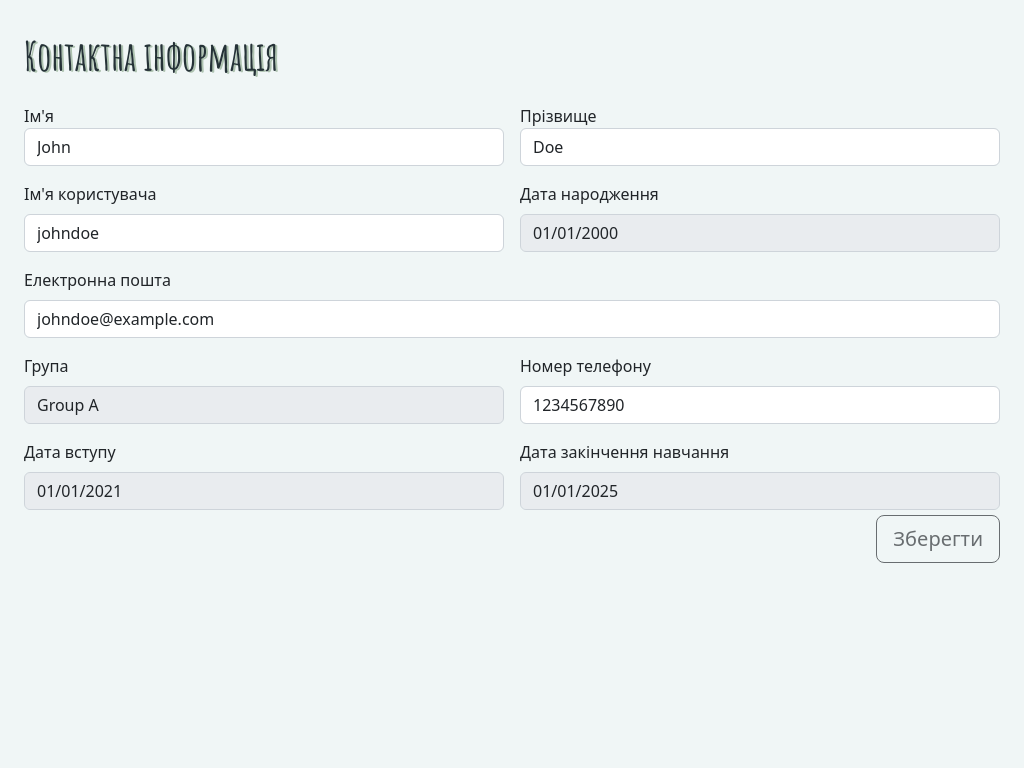
Test case: ProfileForm › Given loaded user data, when the user name input changes, it should validate the input
Check: the field named "First name" is shown, box [24, 128, 504, 166]
Check: the field named "Last name" is shown, box [520, 128, 1000, 166]
Clear the field named "User name" at point(264, 233), box [24, 214, 504, 252]
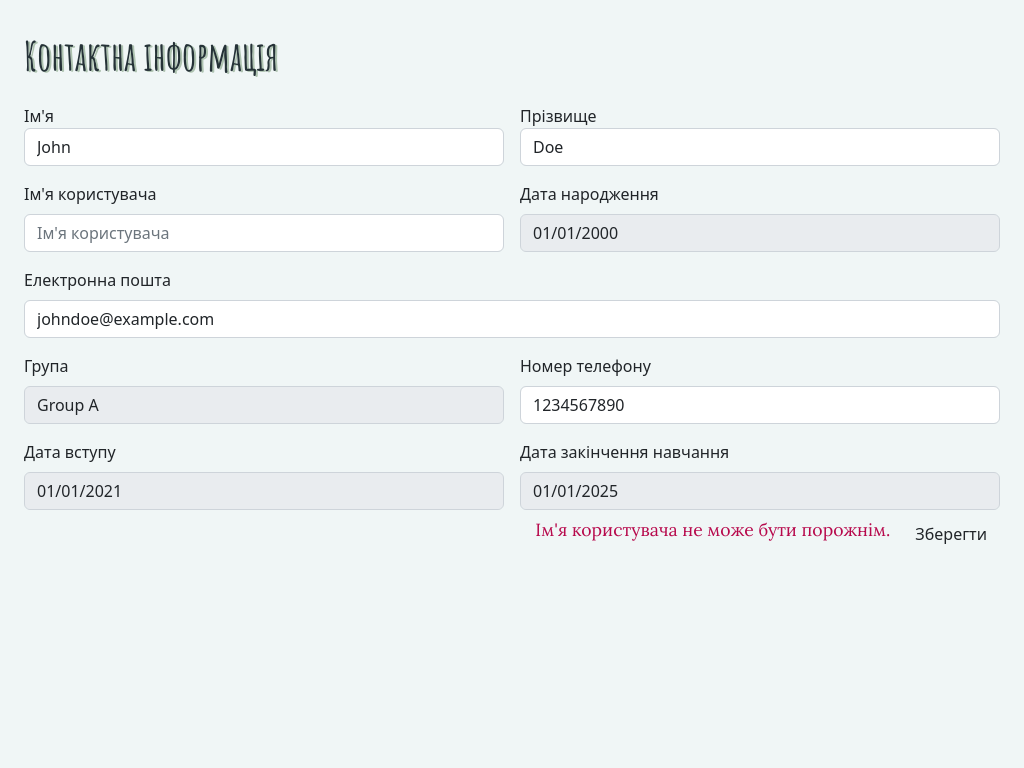
Check: the text "Ім'я користувача не може бути порожнім." is shown, box [535, 517, 890, 544]
Check: the element with test id "is-valid-1" reads "Ім'я користувача не може бути порожнім.", box [535, 518, 890, 541]
Type "johndoe" into the field named "User name".
click(264, 233); type("johndoe")  # box [24, 214, 504, 252]
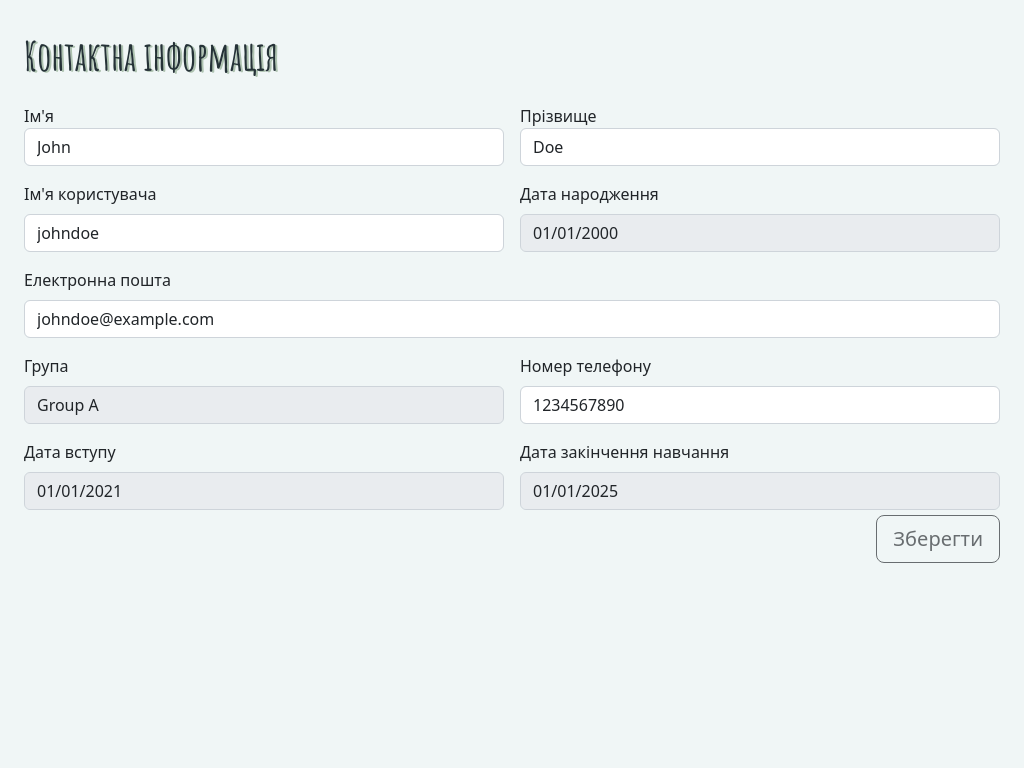
Check: the text "Ім'я користувача не може бути порожнім." is gone
Check: the element with test id "is-valid-1" is empty, box [848, 515, 876, 563]
